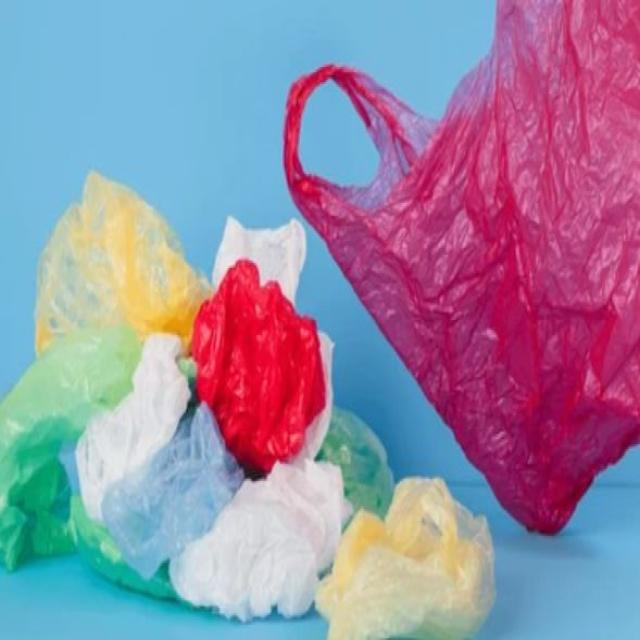general: (280, 8, 640, 502)
